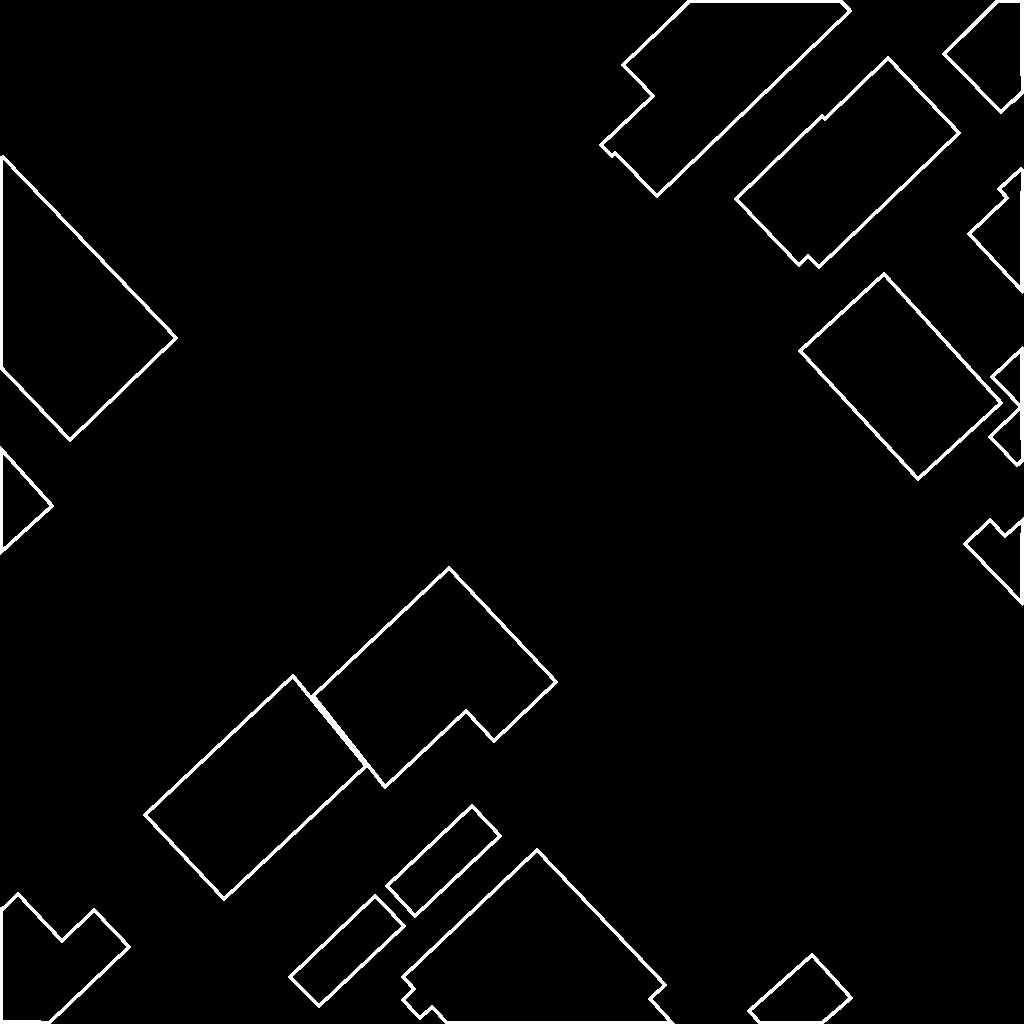building: (313, 568, 557, 788), (0, 157, 177, 441), (145, 676, 367, 900), (601, 0, 851, 197), (403, 850, 674, 1024), (736, 58, 960, 268), (800, 274, 1002, 480), (0, 894, 130, 1024), (290, 896, 405, 1007), (387, 806, 501, 917), (944, 0, 1024, 113), (749, 955, 852, 1024), (969, 169, 1024, 293), (0, 448, 53, 554), (965, 519, 1024, 605), (990, 348, 1024, 466)
